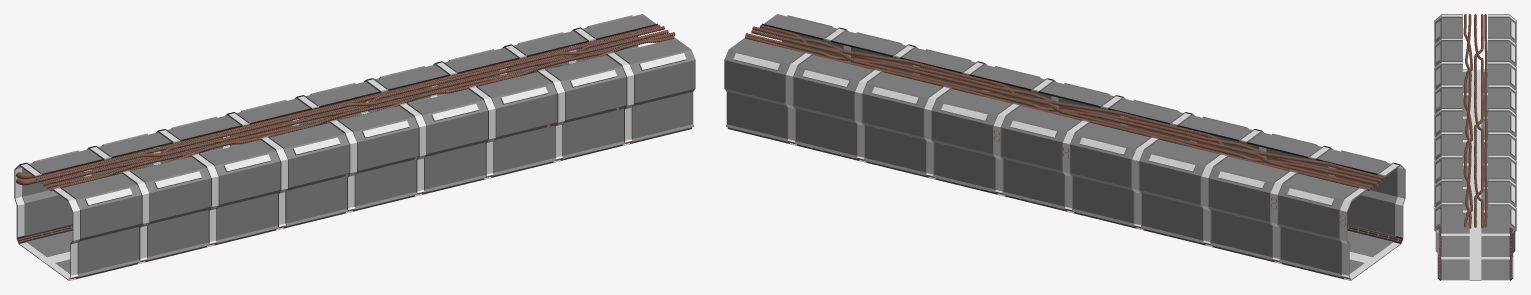
File: SCI-FI_Corridor_ForPOC.fbx
3 views of the same model, side by side, from view 1: azimuth 30°, elevation 25°; view 2: azimuth 150°, elevation 25°; view 3: azimuth 270°, elevation 25° (orthographic). The views are drawn at different scales.
Parts seen in each view (by area): view 1: Room_Main, RoofPipes, MetalGrid.001, LargePipes.002; view 2: Room_Main, RoofPipes, MetalGrid.001; view 3: Room_Main, MetalGrid.001, RoofPipes.
Part boxes in pixels (box(x1,y1,x2,y2)): Room_Main: box(14, 14, 695, 280); RoofPipes: box(34, 24, 675, 191); MetalGrid.001: box(15, 28, 633, 280); LargePipes.002: box(16, 96, 619, 226); Room_Main: box(724, 14, 1405, 280); RoofPipes: box(745, 25, 1385, 191); MetalGrid.001: box(786, 28, 1404, 280); Room_Main: box(1434, 14, 1516, 280); MetalGrid.001: box(1435, 15, 1515, 280); RoofPipes: box(1463, 14, 1487, 228).
Size of the model in its own units: 1814 by 226 by 296.
